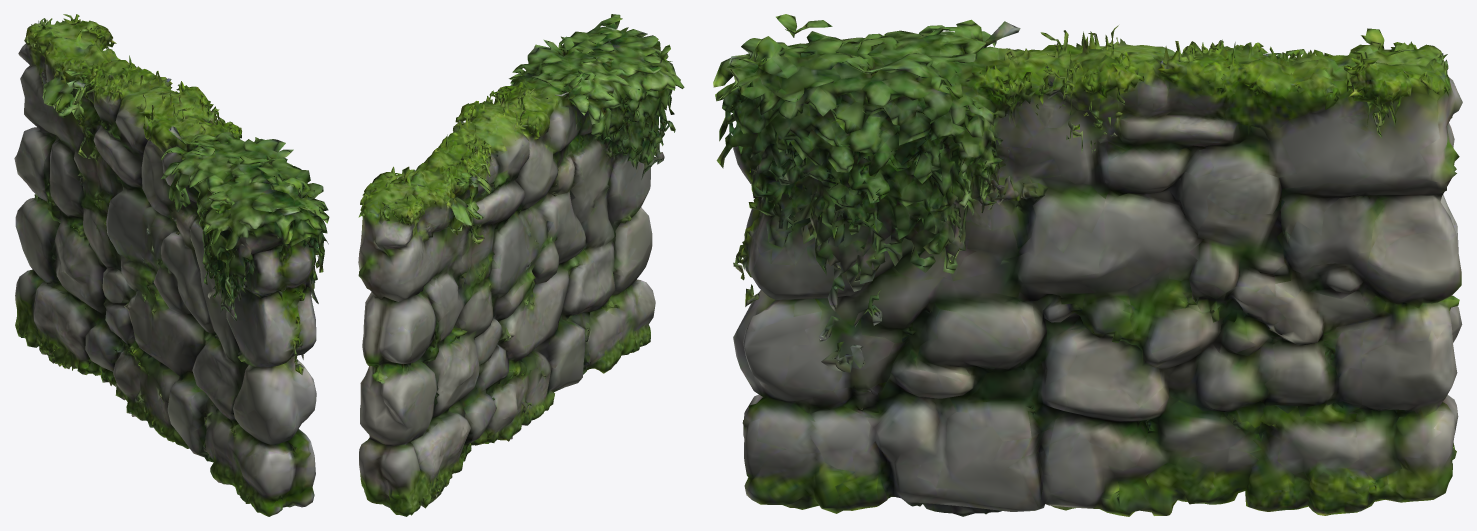
Rendered from muro-pedra.glb.
3 renders of one model, left to right at view 1: azimuth 30°, elevation 25°; view 2: azimuth 150°, elevation 25°; view 3: azimuth 270°, elevation 25°, orthographic. The views are drawn at different scales.
Bounding box in the file's own units: 0.5458 × 1.36 × 1.95.
Materials: 1 (1 with a texture image).
